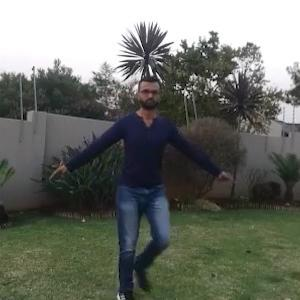land: (76, 95, 200, 247)
